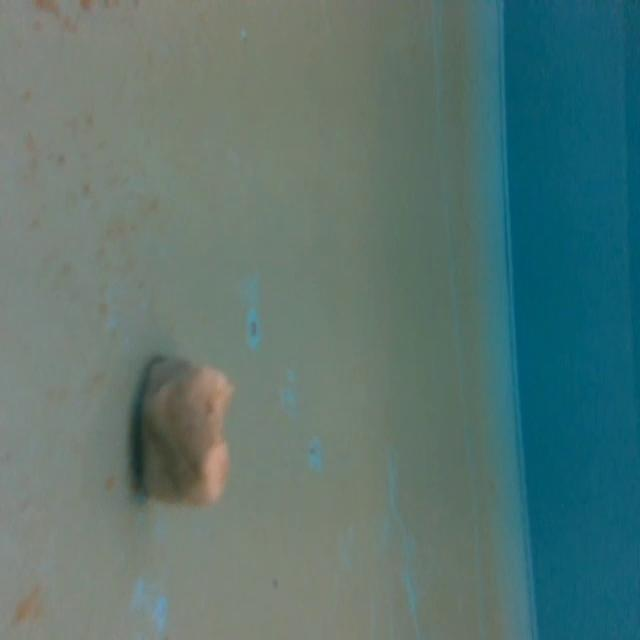rock: (131, 344, 238, 514)
